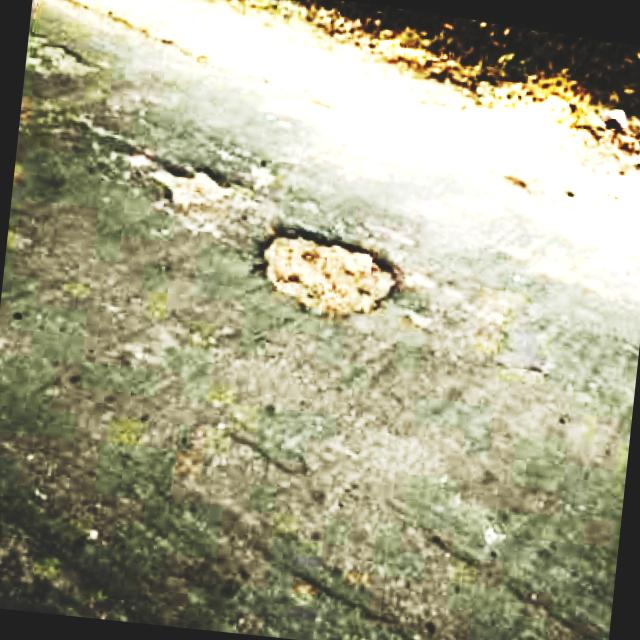pothole: (250, 222, 408, 325), (132, 154, 248, 218), (24, 38, 106, 92)
